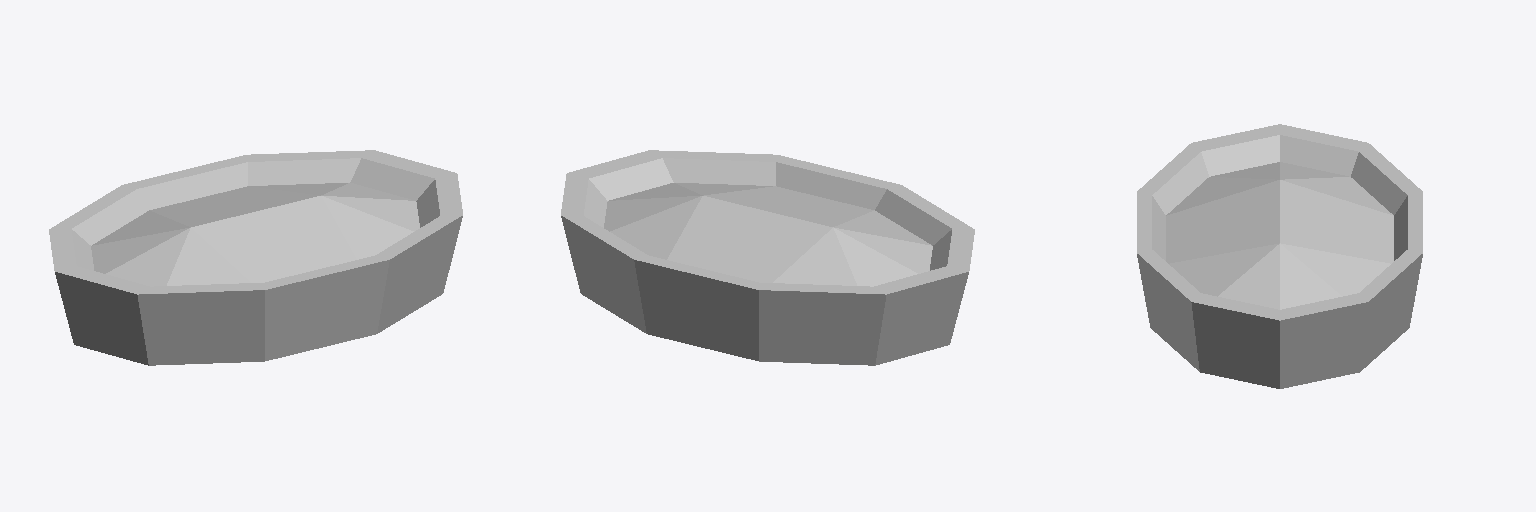
File: Chili.OBJ
3 renders of one model, left to right at view 1: azimuth 30°, elevation 25°; view 2: azimuth 150°, elevation 25°; view 3: azimuth 270°, elevation 25°, orthographic.
Bounding box in the file's own units: 0.21 × 0.0443 × 0.1295.